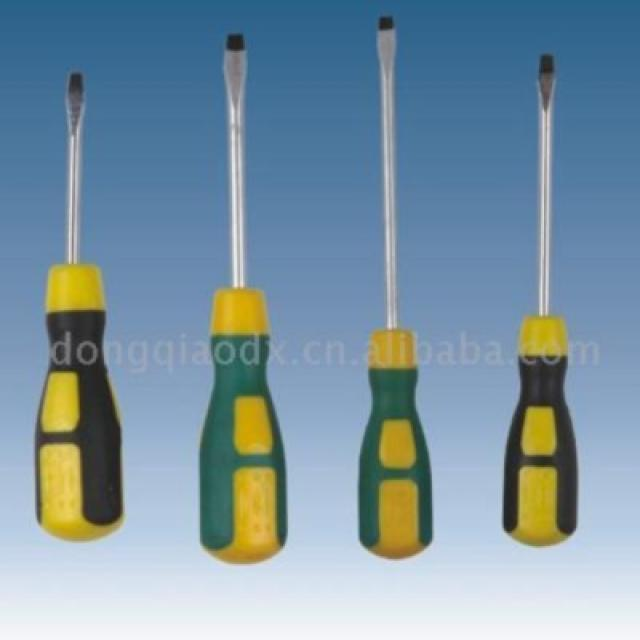screwdriver: (188, 11, 292, 570), (344, 14, 442, 574), (488, 39, 592, 558), (30, 67, 134, 546)
